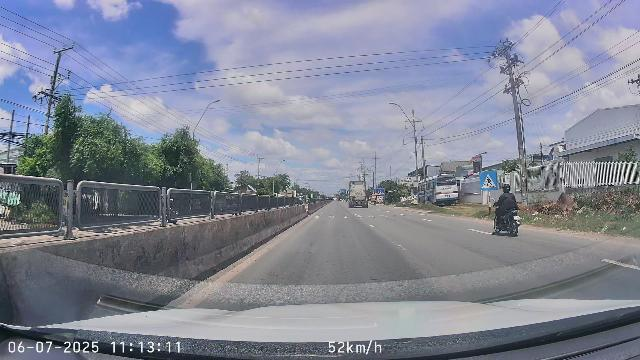423a-duong-nguoi-di-bo-sang-ngang-1: (480, 172, 497, 190)
